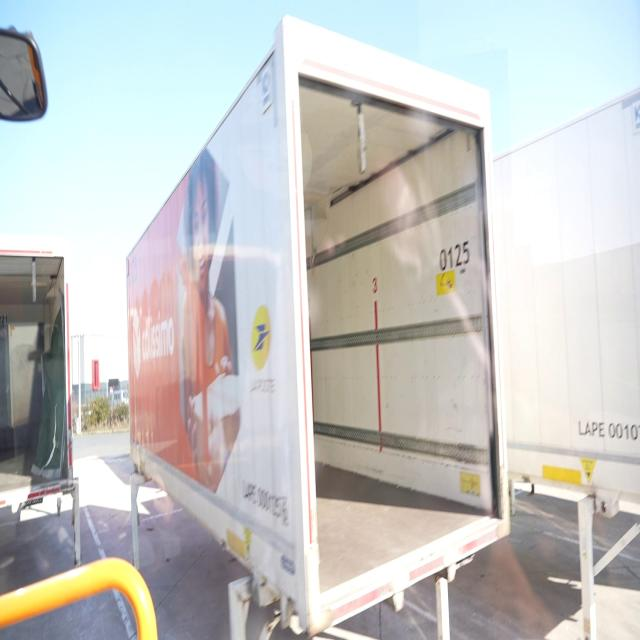Code: (434, 239, 478, 277)
